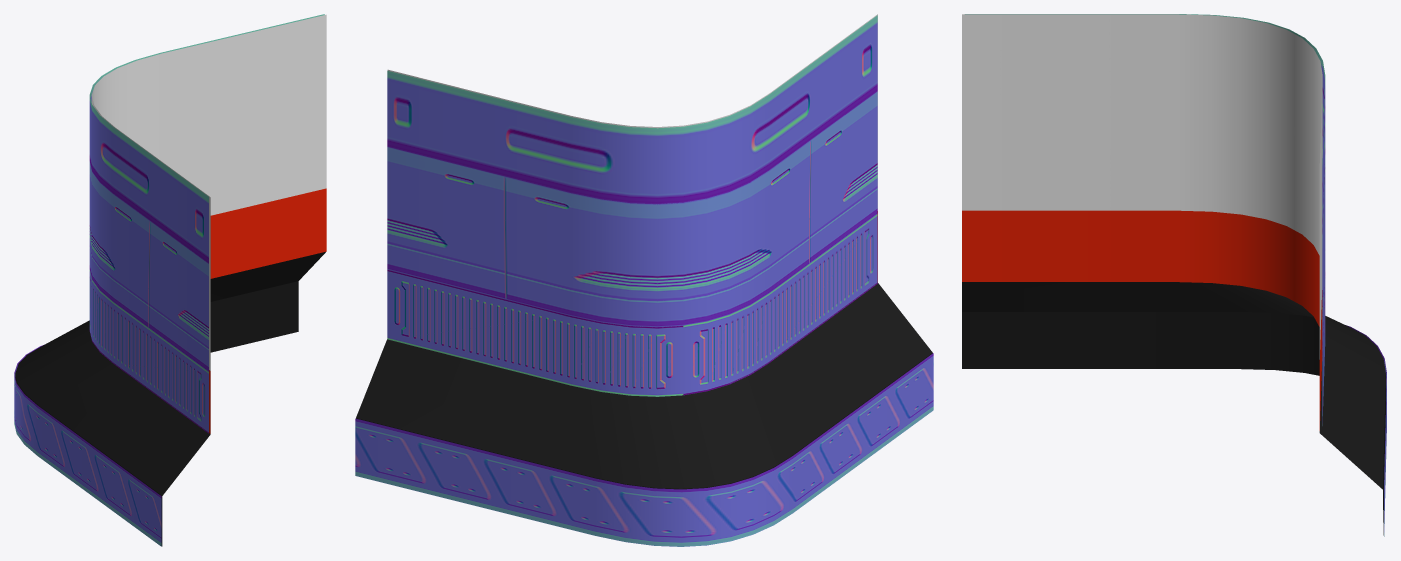
The model's file is S_assete_basement_wall_soft_outside_corner_1.fbx.
3 renders of one model, left to right at view 1: azimuth 30°, elevation 25°; view 2: azimuth 150°, elevation 25°; view 3: azimuth 270°, elevation 25°, orthographic. The views are drawn at different scales.
Parts seen in each view (by area): view 1: S_basement_wall_soft_outside_corner_1; view 2: S_basement_wall_soft_outside_corner_1; view 3: S_basement_wall_soft_outside_corner_1.
Part boxes in pixels (<box>): S_basement_wall_soft_outside_corner_1: <box>14,14,326,546</box>; S_basement_wall_soft_outside_corner_1: <box>355,14,933,546</box>; S_basement_wall_soft_outside_corner_1: <box>962,14,1386,536</box>.
Size of the model in its own units: 200 by 200 by 202.
